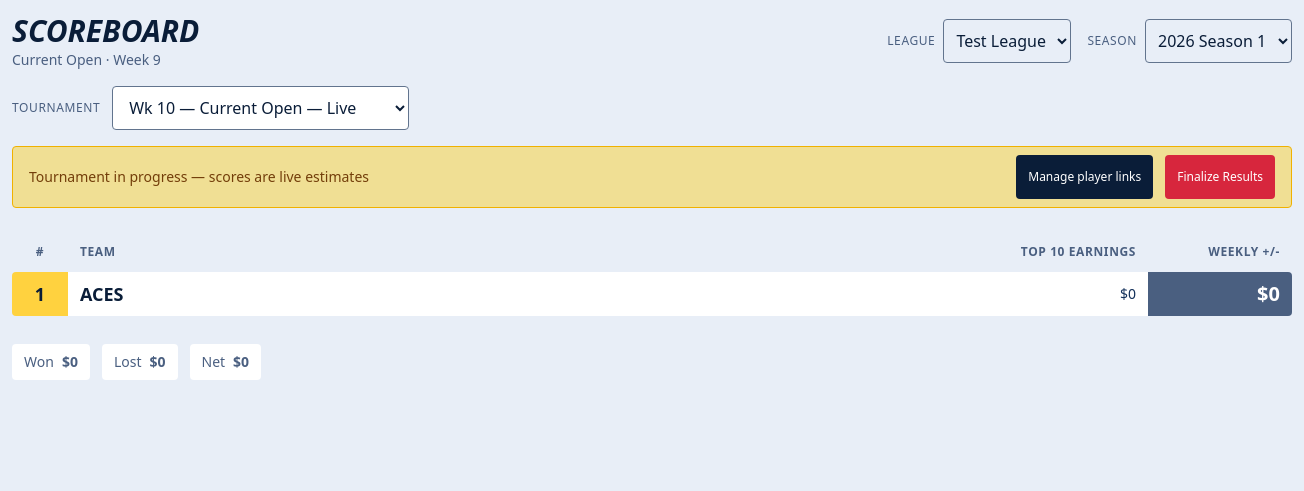
ScoreboardPage › stays on the finalized tournament with its warnings when the current one moves on
The width and height of the screenshot is (1304, 491).
Click the button "Finalize Results" at coordinates (1220, 176), box [1165, 154, 1275, 198]
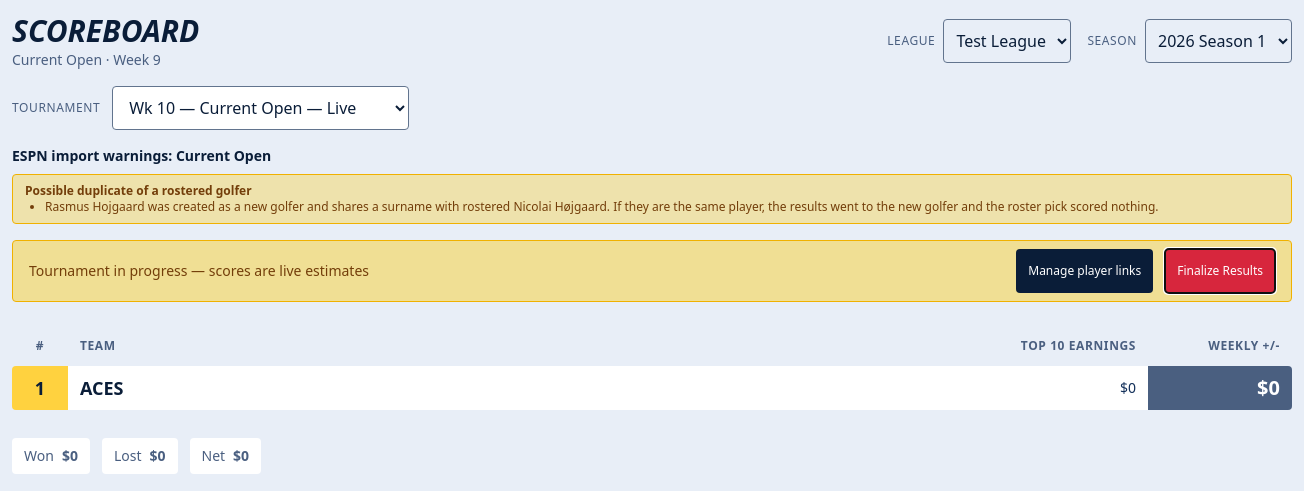
Result: the message shows "Possible duplicate of a rostered golfer" at [25, 182, 252, 198]
Select "Wk 10 — Next Week Open — Live" in the dropdown labelled "Tournament" at coordinates (261, 108), box [112, 86, 409, 130]
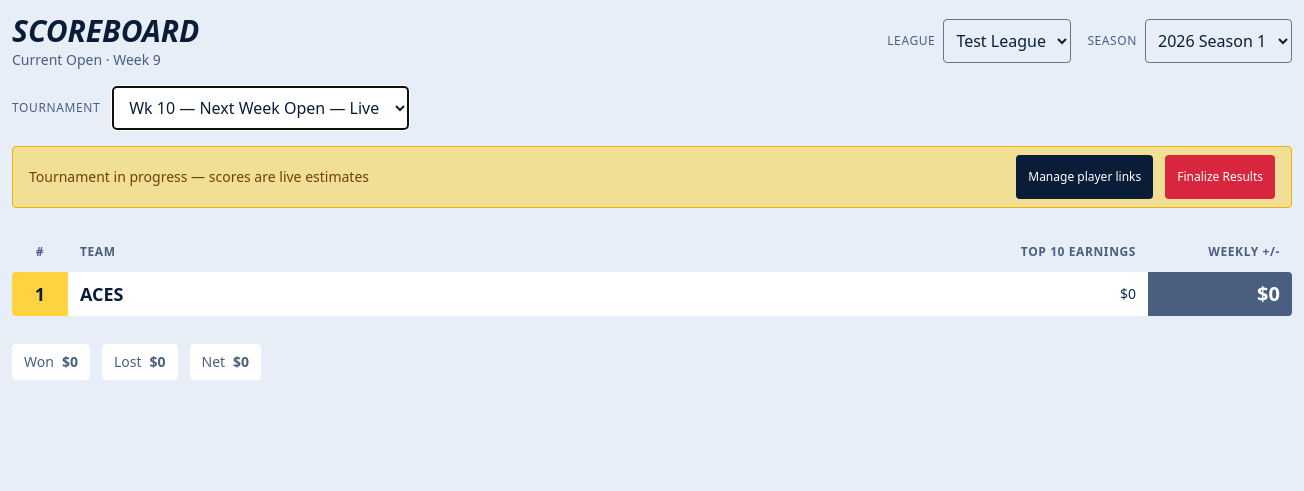
Result: the text "Possible duplicate of a rostered golfer" is gone
